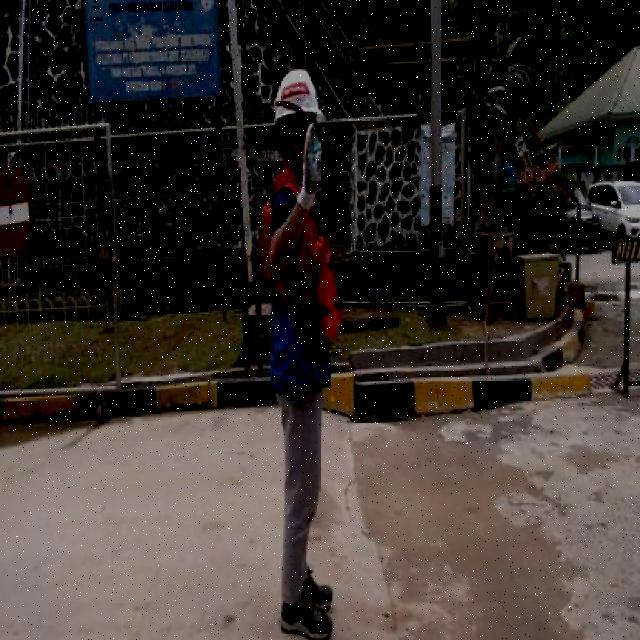Gloves: (296, 119, 322, 213)
Helmet: (272, 68, 325, 125)
Mask: (259, 200, 347, 342)
